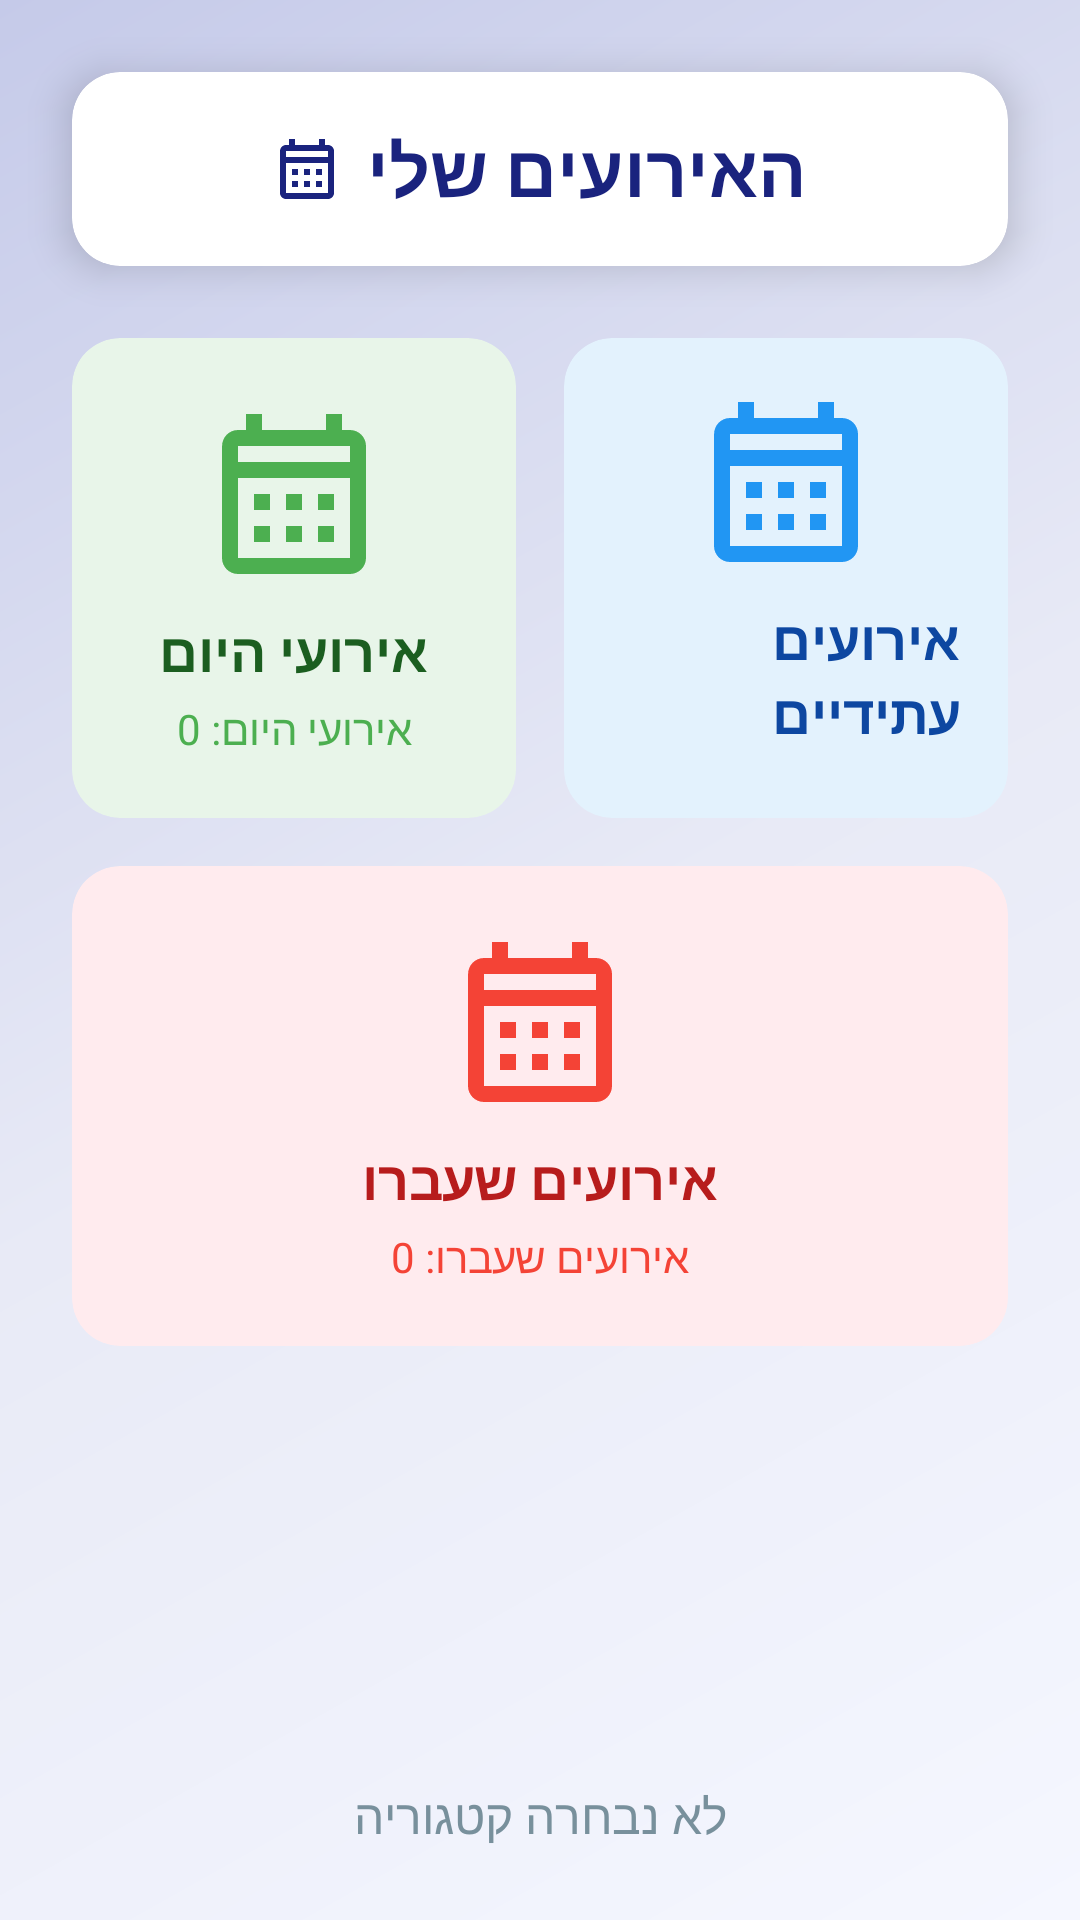

Icons on this 1080w x 1920h Android screen, each with its box as (x1, y1, x2, y2):
event: (714, 402, 858, 562), (222, 414, 366, 574), (468, 942, 612, 1102)
